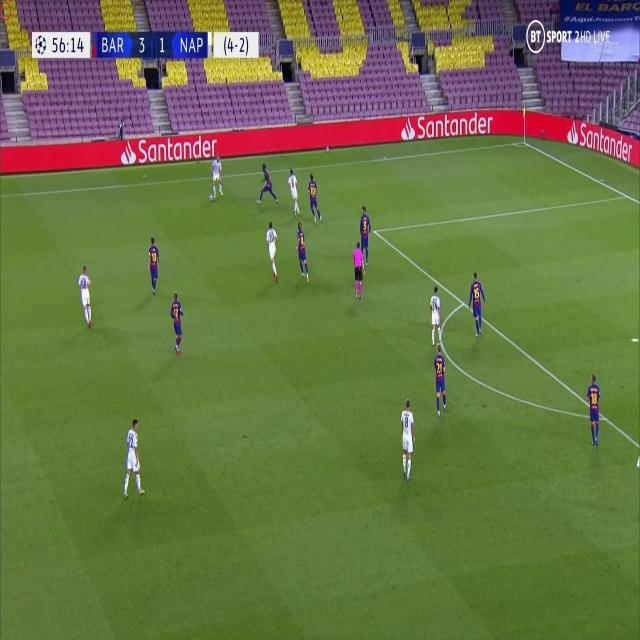ball: (208, 192, 214, 201)
player: (122, 415, 144, 502), (399, 393, 417, 481), (586, 369, 602, 447), (468, 268, 485, 339), (168, 289, 186, 356), (432, 344, 447, 418), (76, 262, 92, 328), (256, 162, 278, 206), (264, 218, 279, 282), (146, 234, 161, 296), (351, 236, 365, 302), (358, 202, 372, 266), (295, 220, 309, 283), (429, 284, 442, 348), (306, 172, 321, 223), (286, 167, 301, 215), (209, 150, 223, 201)
